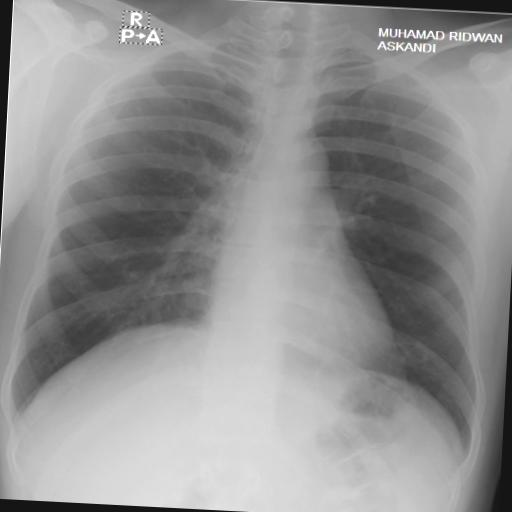normal: (4, 9, 501, 463)
